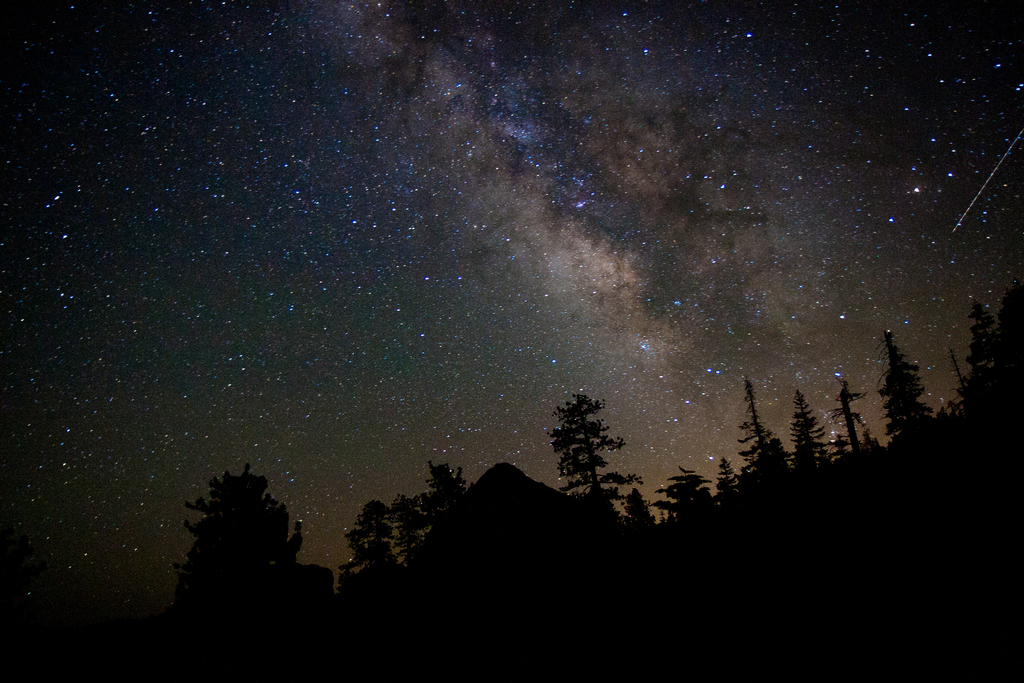Tree: (144, 282, 1024, 652)
